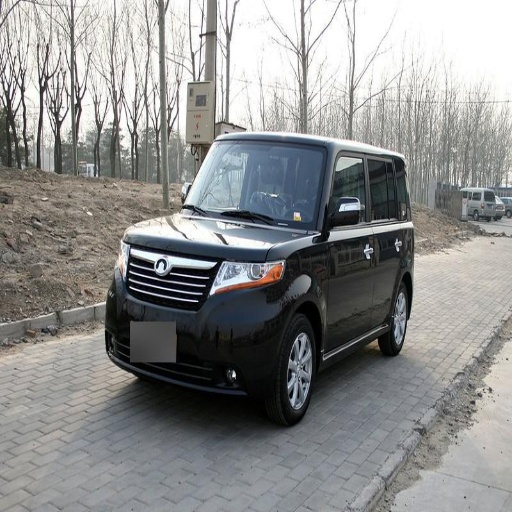front_bumper: (107, 243, 285, 397)
front_glass: (183, 140, 326, 227)
front_left_door: (327, 150, 376, 349)
